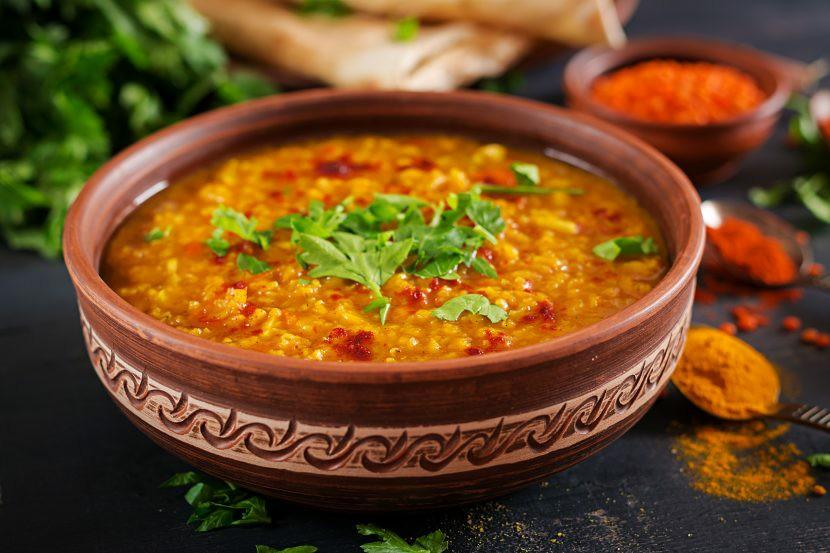Dal: (106, 128, 661, 363)
